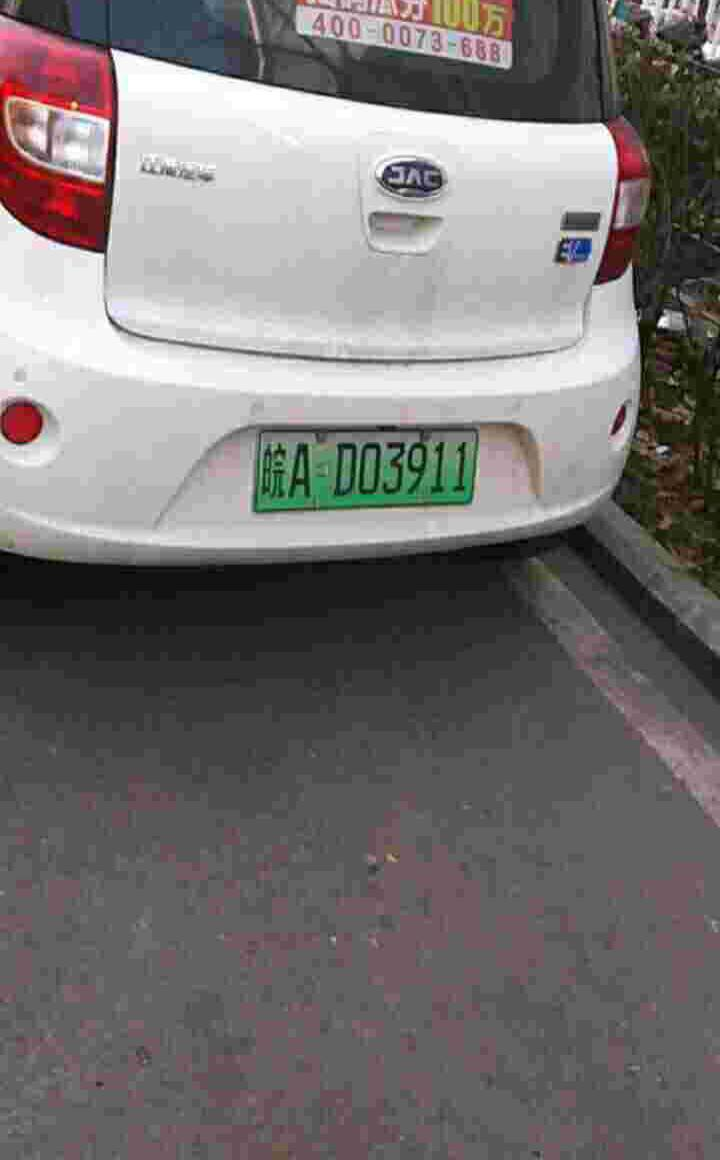car_green: (257, 425, 479, 507)
